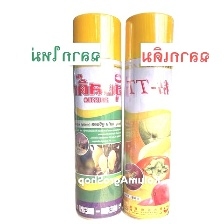aerosol_cans: (114, 8, 177, 222), (68, 7, 126, 224)
